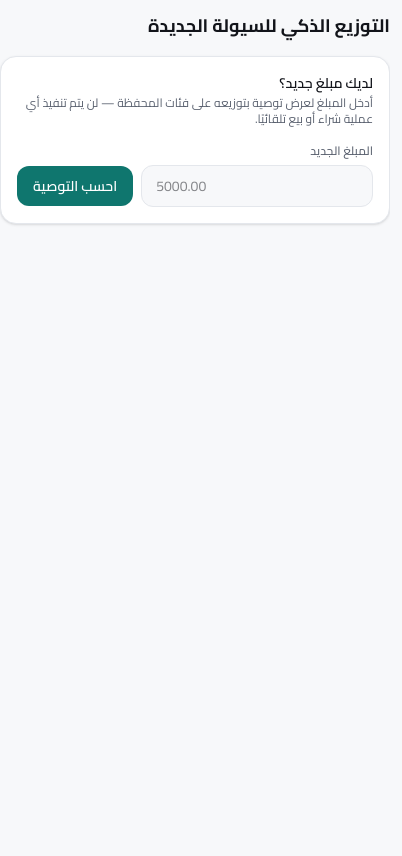
InflowPage › submits the entered amount and renders the recommendation, clearly labeled as non-executed
In the field with placeholder "5000.00": (257, 186) [141,165,373,207], type "1000.00"
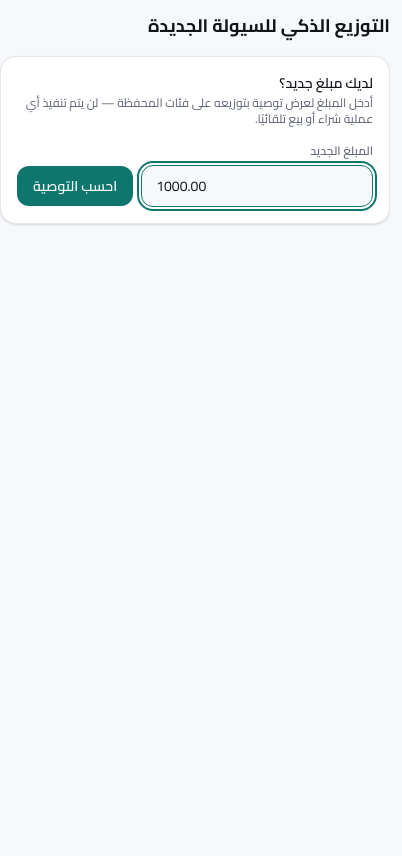
Click the button "احسب التوصية": (75, 186) [17,166,133,206]
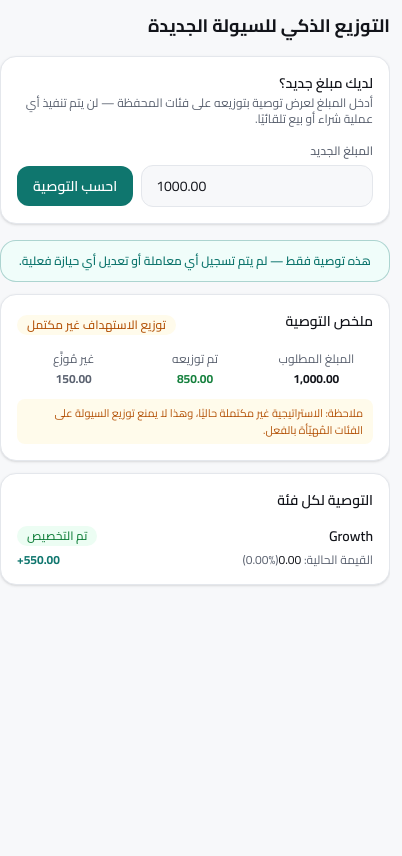
Result: the text "150.00" is shown at [56,367,92,390]
Result: the text "850.00" is shown at [177,367,213,390]
Result: the text "هذه توصية فقط" is shown at [19,249,371,272]
